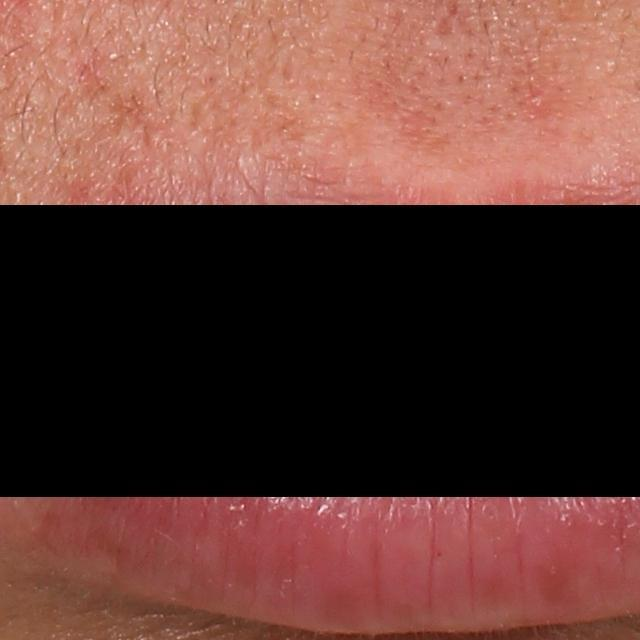atrophic_scar: (432, 13, 455, 41)
